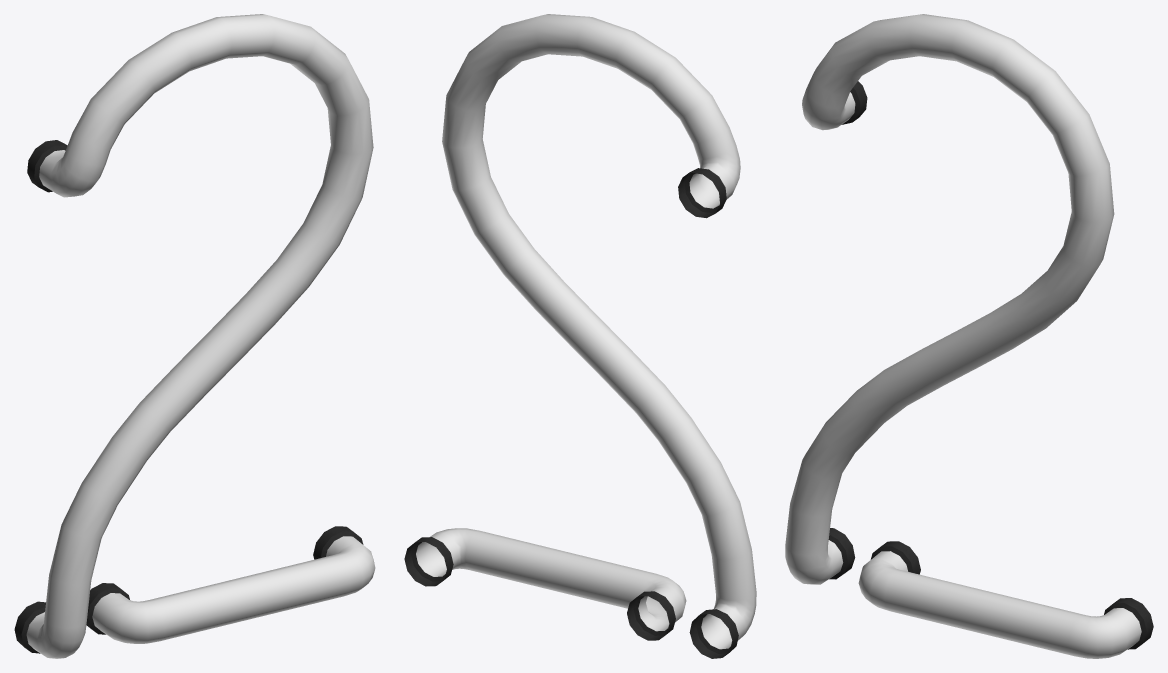
Rendered from LettersNeon01_2.FBX.
3 views of the same model, side by side, from view 1: azimuth 30°, elevation 25°; view 2: azimuth 150°, elevation 25°; view 3: azimuth 330°, elevation 25° (orthographic). The views are drawn at different scales.
Visible parts, largest first — view 1: LettersNeon01_2; view 2: LettersNeon01_2; view 3: LettersNeon01_2.
Part boxes in pixels (left/top/right/bottom): LettersNeon01_2: left=14, top=14, right=375, bottom=658; LettersNeon01_2: left=404, top=14, right=756, bottom=658; LettersNeon01_2: left=785, top=14, right=1153, bottom=658.
Size of what is drawn, in the model's own units: 0.2793 by 0.4759 by 0.054.
